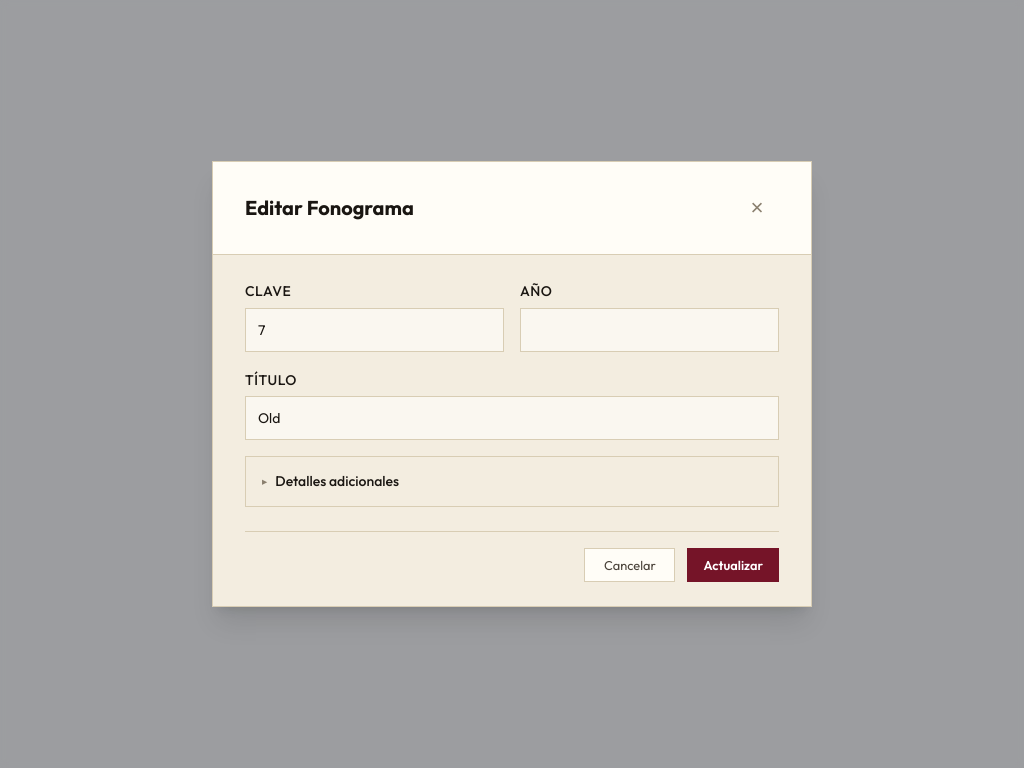
Test: AdminFormModal.vue › the edit submit-confirm lists the modified fields
The width and height of the screenshot is (1024, 768).
Replace the text in the field with id "titulo" with "New title" at x=512, y=418, box [245,396,779,440]
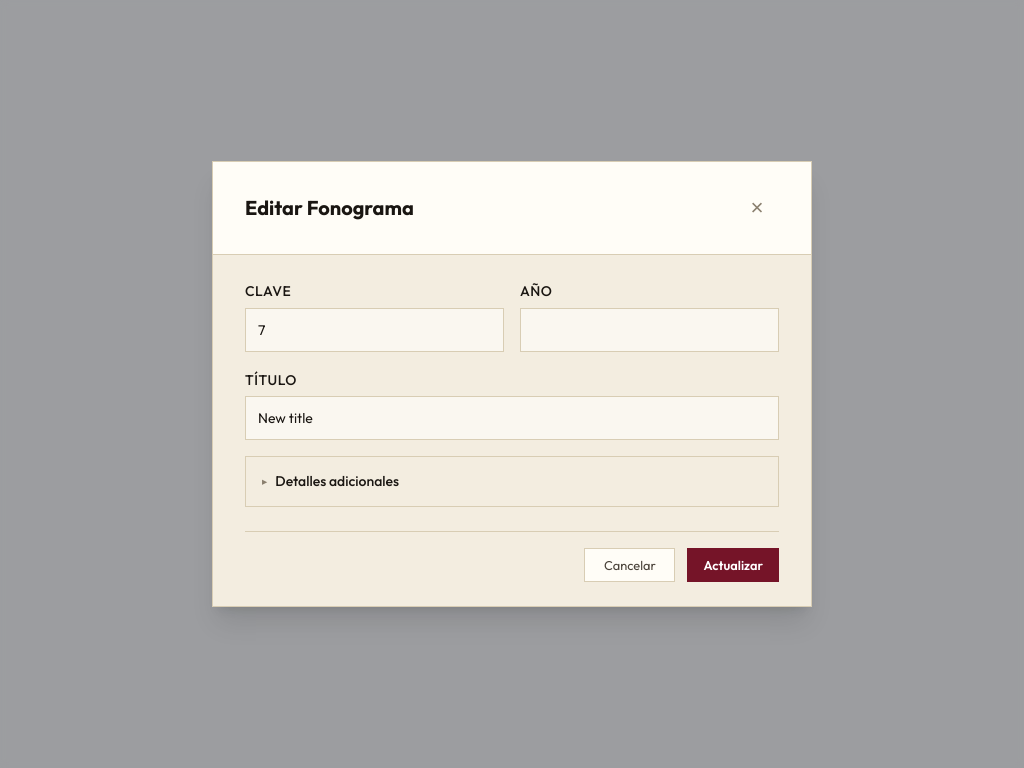
Type "1982" into the field with id "anio" at x=650, y=330, box [520,308,779,352]
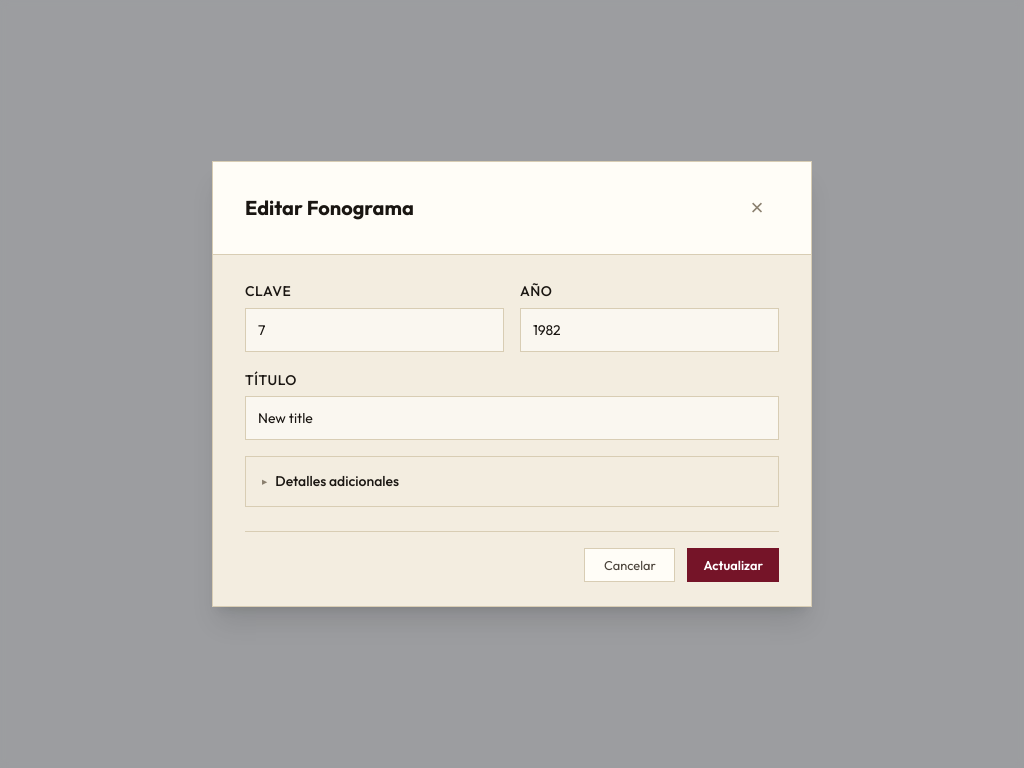
Submit the form, box [245,279,779,582]
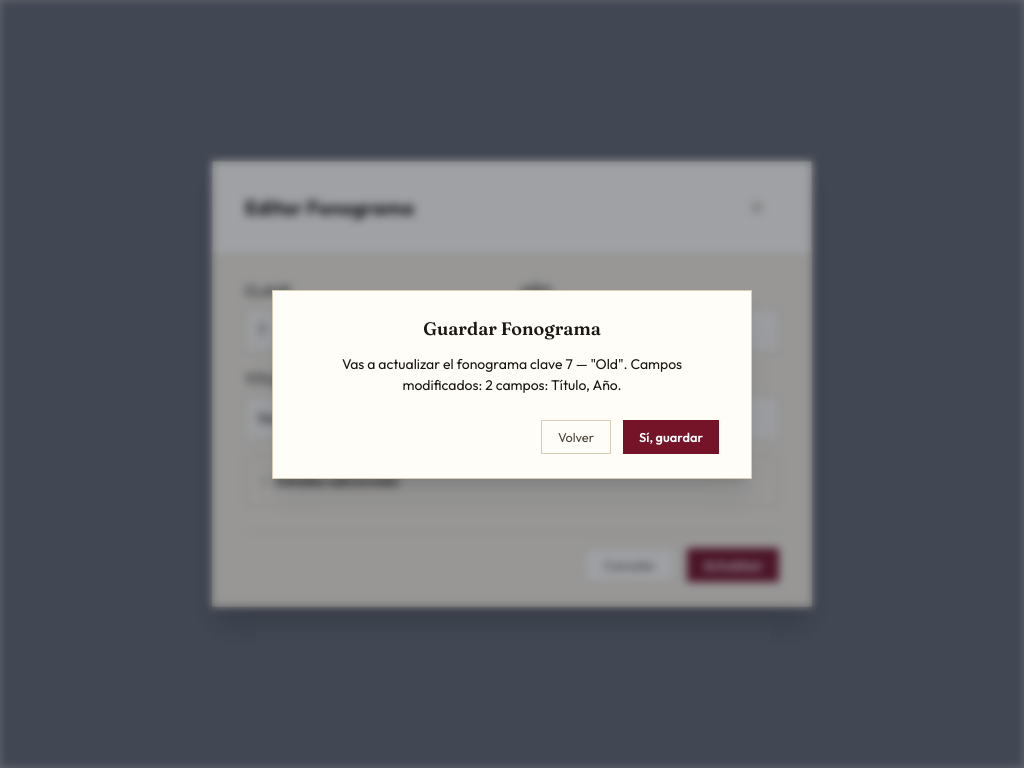
Result: the text with class "admin-confirm-message" shows "Vas a actualizar" at [342,354,682,394]
Result: the text with class "admin-confirm-message" shows "clave 7" at [342,354,682,394]
Result: the text with class "admin-confirm-message" shows "\"Old\"" at [342,354,682,394]
